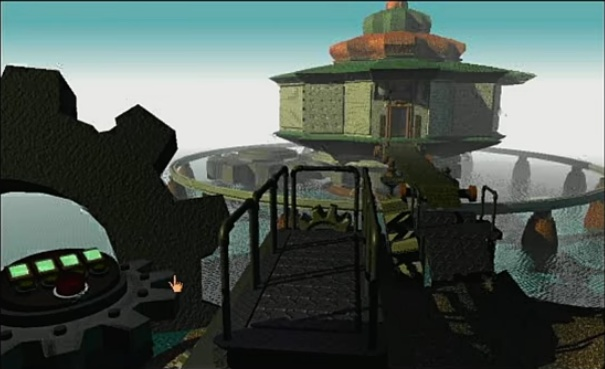Pointer: (166, 271, 188, 295)
